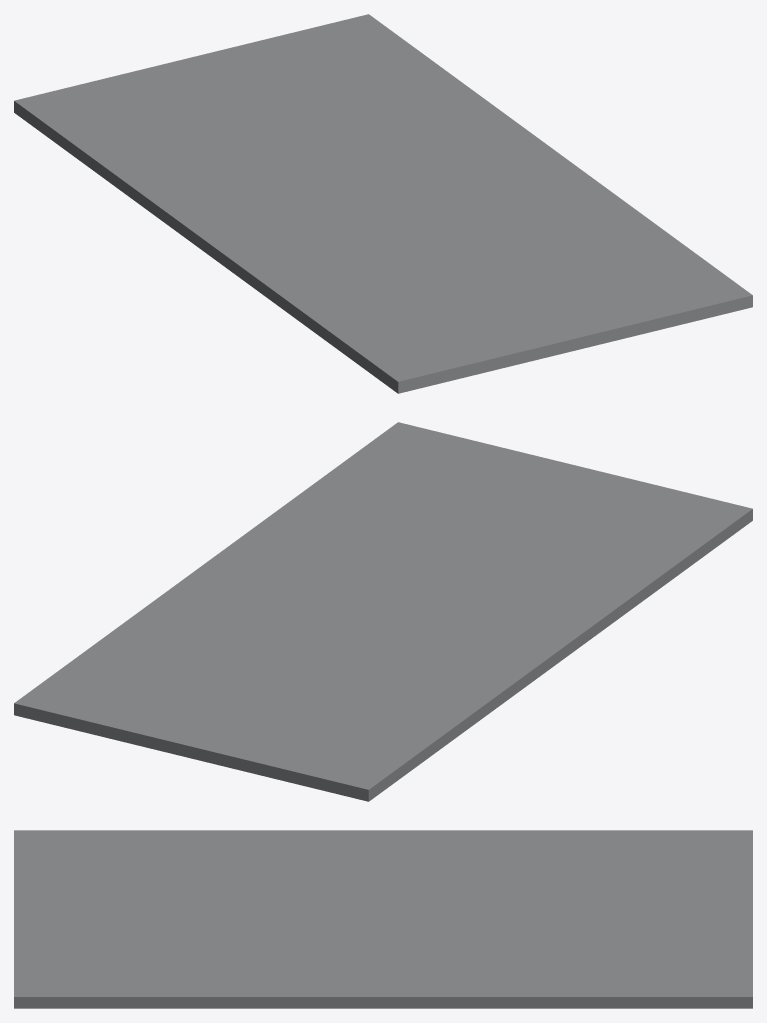
The picture shows the model from 3 angles, top to bottom: view 1: azimuth 30°, elevation 25°; view 2: azimuth 150°, elevation 25°; view 3: azimuth 270°, elevation 25°; orthographic projection. The views are drawn at different scales.
Size of the model in its own units: 0.5599 by 0.018 by 1.05.
